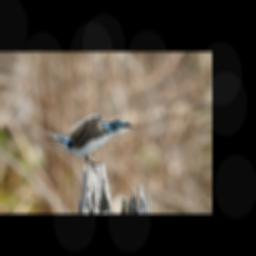Swallow: (32, 113, 136, 166)
